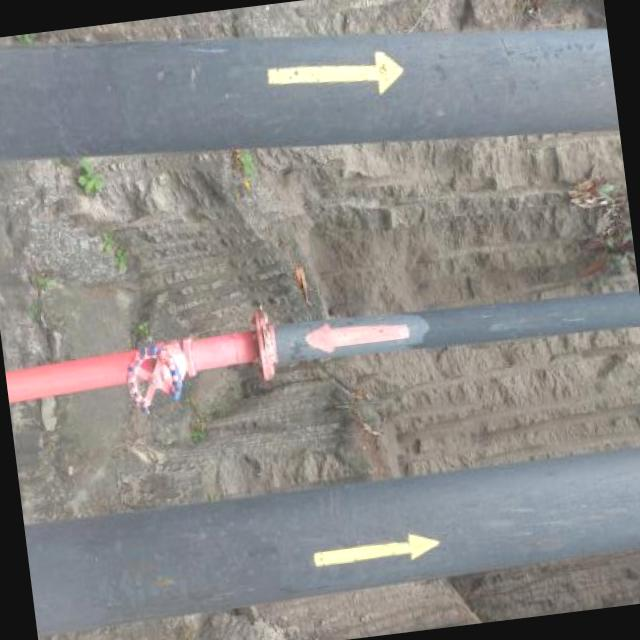gas: (23, 447, 640, 636), (0, 26, 619, 158), (5, 290, 640, 401)
